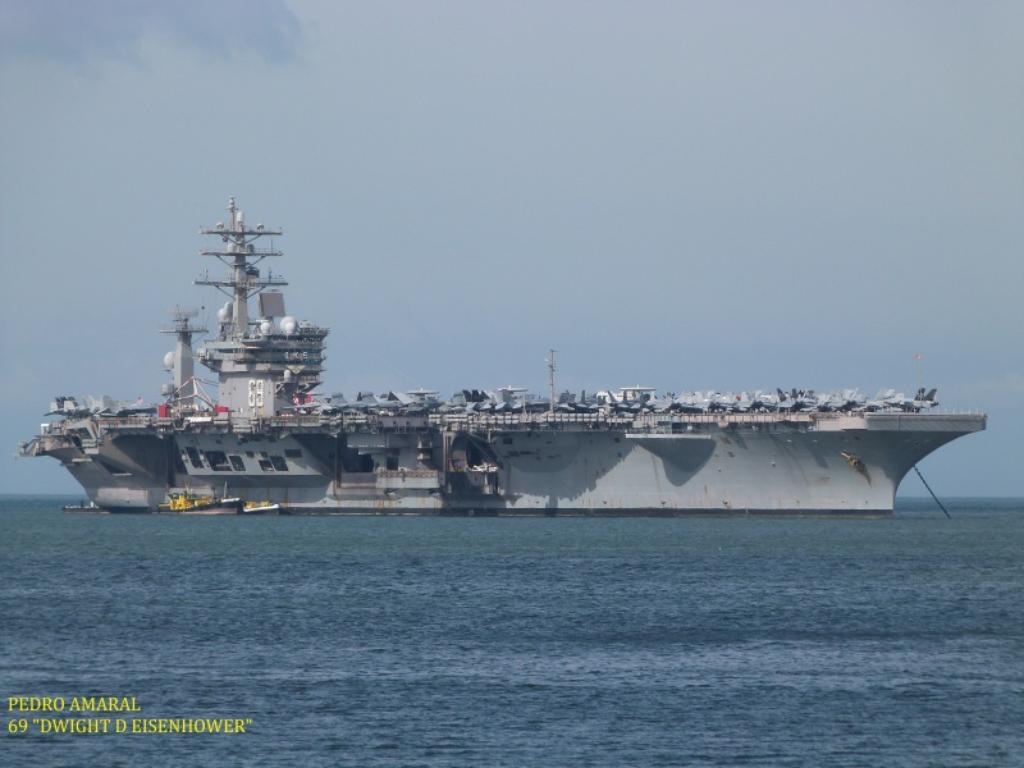Warship: (14, 208, 994, 516)
